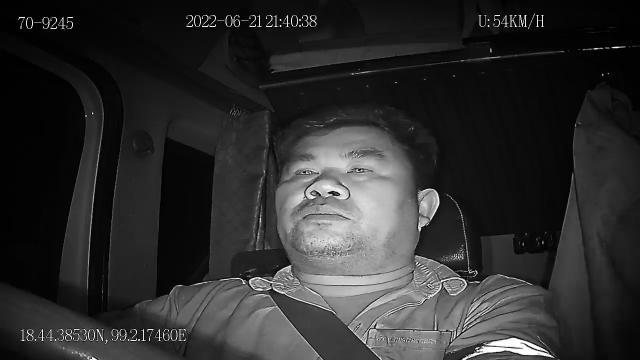SafeDriving: (280, 156, 322, 185), (341, 154, 384, 181)
Seatbelt: (273, 286, 379, 360)
